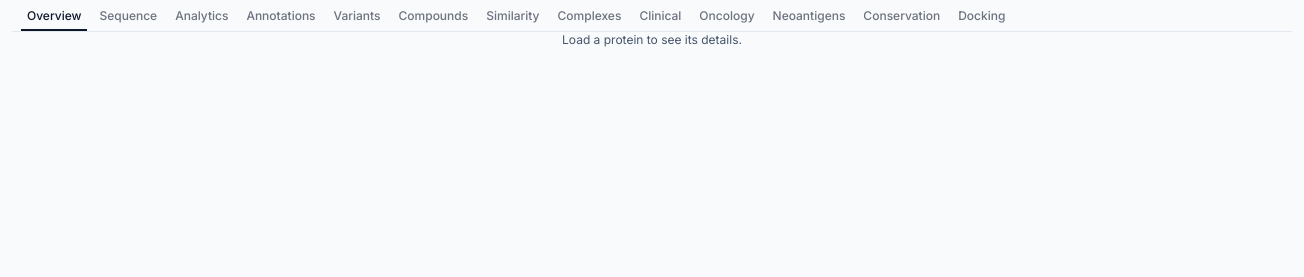
Scenario: ViewerRail › wires the Similarity tab to the Similarity panel
Click the tab "Similarity" at x=513, y=16, box [479, 4, 546, 26]
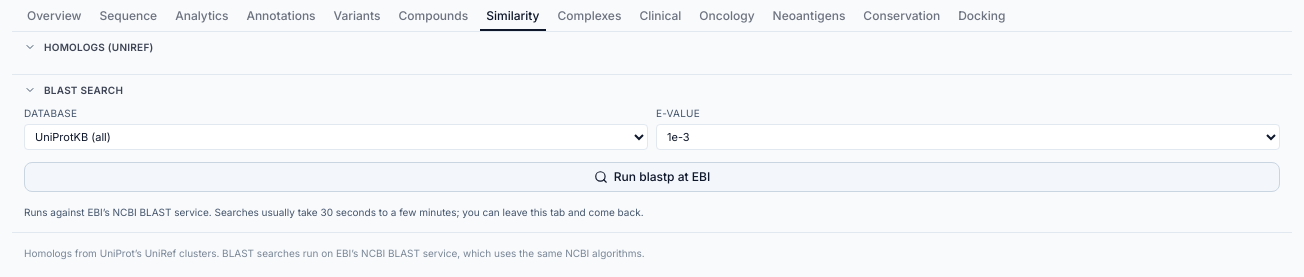
Now the button "Run blastp at EBI" is shown, box [24, 162, 1280, 192]
